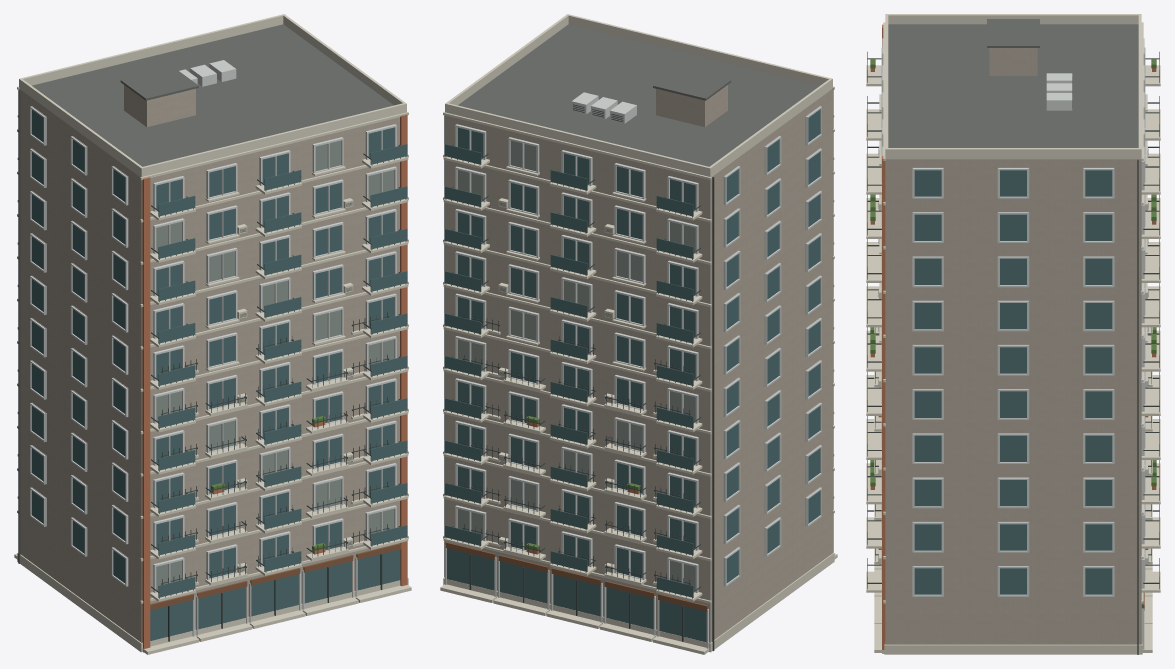
The model's file is tirana-buildings.glb.
3 renders of one model, left to right at view 1: azimuth 30°, elevation 25°; view 2: azimuth 150°, elevation 25°; view 3: azimuth 270°, elevation 25°, orthographic. The views are drawn at different scales.
Visible parts, largest first — view 1: tirana_modern_lod Tirana_PBR_Plaster, tirana_modern Tirana_PBR_Plaster, tirana_modern_lod Green grey glazing, tirana_modern Painted window frames, tirana_modern Warm limestone trim, tirana_modern Roof membrane, tirana_modern Green grey glazing, tirana_modern_lod Closed shutters, tirana_modern Terracotta painted panels, tirana_modern Iron balcony rail, tirana_courtyard Warm limestone trim, tirana_apartment Iron balcony rail (+3 smaller); view 2: tirana_modern_lod Tirana_PBR_Plaster, tirana_modern Tirana_PBR_Plaster, tirana_modern_lod Green grey glazing, tirana_modern Painted window frames, tirana_modern Warm limestone trim, tirana_modern Roof membrane, tirana_modern Green grey glazing, tirana_modern_lod Closed shutters, tirana_modern Iron balcony rail, tirana_courtyard Warm limestone trim, tirana_apartment Iron balcony rail, tirana_modern Timber shop panel (+2 smaller); view 3: tirana_modern Tirana_PBR_Plaster, tirana_modern_lod Tirana_PBR_Plaster, tirana_modern Roof membrane, tirana_modern Warm limestone trim, tirana_modern_lod Green grey glazing, tirana_modern Painted window frames, tirana_modern_lod Painted window frames, tirana_modern Iron balcony rail, tirana_modern Terracotta painted panels, tirana_courtyard Warm limestone trim, tirana_modern Balcony greenery, tirana_modern Green grey glazing.
Boxes of the visible parts, <box> form: tirana_modern_lod Tirana_PBR_Plaster: <box>20,85,399,642</box>; tirana_modern Tirana_PBR_Plaster: <box>19,85,399,639</box>; tirana_modern_lod Green grey glazing: <box>31,109,394,583</box>; tirana_modern Painted window frames: <box>30,60,396,636</box>; tirana_modern Warm limestone trim: <box>14,14,411,654</box>; tirana_modern Roof membrane: <box>32,24,393,166</box>; tirana_modern Green grey glazing: <box>150,144,407,640</box>; tirana_modern_lod Closed shutters: <box>156,140,394,590</box>; tirana_modern Terracotta painted panels: <box>142,114,407,652</box>; tirana_modern Iron balcony rail: <box>18,89,407,641</box>; tirana_courtyard Warm limestone trim: <box>162,377,400,644</box>; tirana_apartment Iron balcony rail: <box>161,312,389,584</box>; tirana_modern_lod Tirana_PBR_Plaster: <box>445,89,832,642</box>; tirana_modern Tirana_PBR_Plaster: <box>445,85,832,642</box>; tirana_modern_lod Green grey glazing: <box>457,109,820,583</box>; tirana_modern Painted window frames: <box>445,92,821,648</box>; tirana_modern Warm limestone trim: <box>440,14,837,654</box>; tirana_modern Roof membrane: <box>458,24,819,166</box>; tirana_modern Green grey glazing: <box>444,144,706,642</box>; tirana_modern_lod Closed shutters: <box>457,140,695,590</box>; tirana_modern Iron balcony rail: <box>444,104,714,650</box>; tirana_courtyard Warm limestone trim: <box>451,377,694,645</box>; tirana_apartment Iron balcony rail: <box>462,312,690,584</box>; tirana_modern Timber shop panel: <box>445,542,707,611</box>; tirana_modern Tirana_PBR_Plaster: <box>885,48,1141,644</box>; tirana_modern_lod Tirana_PBR_Plaster: <box>885,48,1141,644</box>; tirana_modern Roof membrane: <box>888,19,1138,147</box>; tirana_modern Warm limestone trim: <box>866,14,1160,654</box>; tirana_modern_lod Green grey glazing: <box>914,170,1112,594</box>; tirana_modern Painted window frames: <box>881,38,1145,649</box>; tirana_modern_lod Painted window frames: <box>912,167,1114,596</box>; tirana_modern Iron balcony rail: <box>867,58,1159,654</box>; tirana_modern Terracotta painted panels: <box>870,24,1156,653</box>; tirana_courtyard Warm limestone trim: <box>874,327,1152,631</box>; tirana_modern Balcony greenery: <box>870,59,1156,486</box>; tirana_modern Green grey glazing: <box>867,51,1159,608</box>.
Bounding box in the file's own units: 20.34 × 36.33 × 18.4.
Materials: 10 (1 with a texture image).
